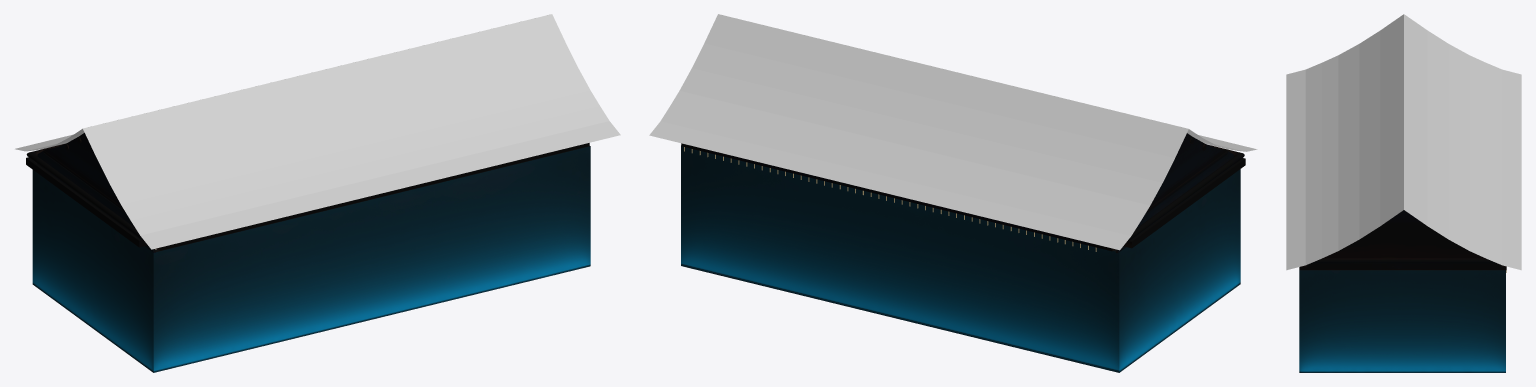
The model's file is gallery.FBX.
The picture shows the model from 3 angles, left to right: view 1: azimuth 30°, elevation 25°; view 2: azimuth 150°, elevation 25°; view 3: azimuth 270°, elevation 25°; orthographic projection. The views are drawn at different scales.
Visible parts, largest first — view 1: 2floor_d5, wall_out2, wall_out1, 2floor_d2, 2floor_d3; view 2: 2floor_d5, wall_out2, wall_out1, 2floor_d2, 2floor_d3; view 3: 2floor_d5, wall_out2, wall_out1, 2floor_d3, 2floor_d2, floor_02.
Part boxes in pixels (x1,y1,x2,y2): 2floor_d5: [15, 14, 620, 249]; wall_out2: [32, 146, 590, 326]; wall_out1: [32, 220, 590, 372]; 2floor_d2: [26, 143, 589, 250]; 2floor_d3: [37, 133, 155, 252]; 2floor_d5: [649, 14, 1257, 250]; wall_out2: [681, 146, 1240, 326]; wall_out1: [681, 219, 1240, 372]; 2floor_d2: [681, 143, 1245, 251]; 2floor_d3: [1116, 133, 1233, 253]; 2floor_d5: [1286, 14, 1521, 270]; wall_out2: [1299, 270, 1505, 333]; wall_out1: [1299, 333, 1505, 372]; 2floor_d3: [1323, 210, 1484, 258]; 2floor_d2: [1300, 258, 1506, 270]; floor_02: [1299, 267, 1505, 270].
Size of what is drawn, in the model's own units: 32705 by 13446 by 16587.
